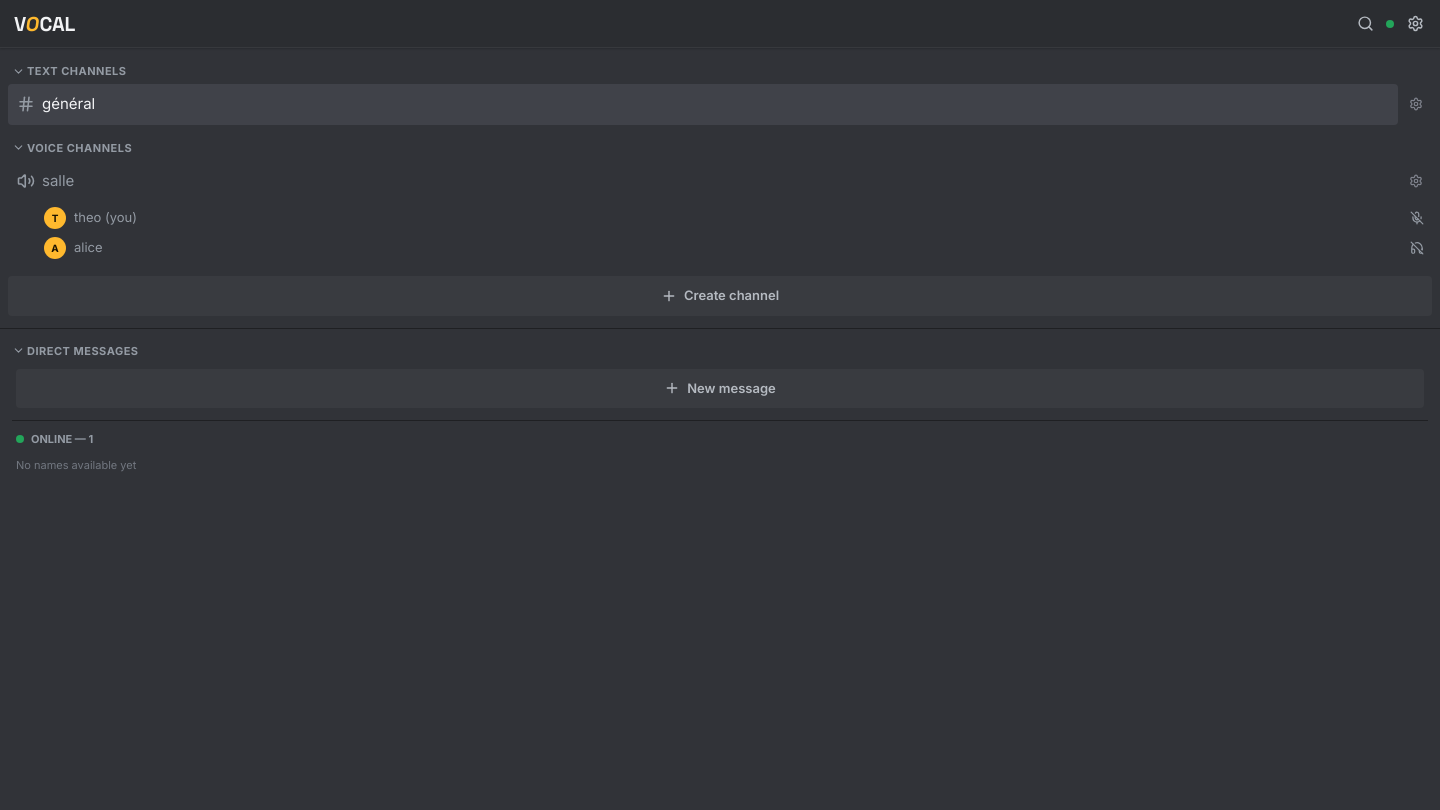
Test: Sidebar › shows a per-channel settings icon for admins, opening that channel's settings
Click the button named "Settings for salle": (1416, 181) [1400, 165, 1432, 197]
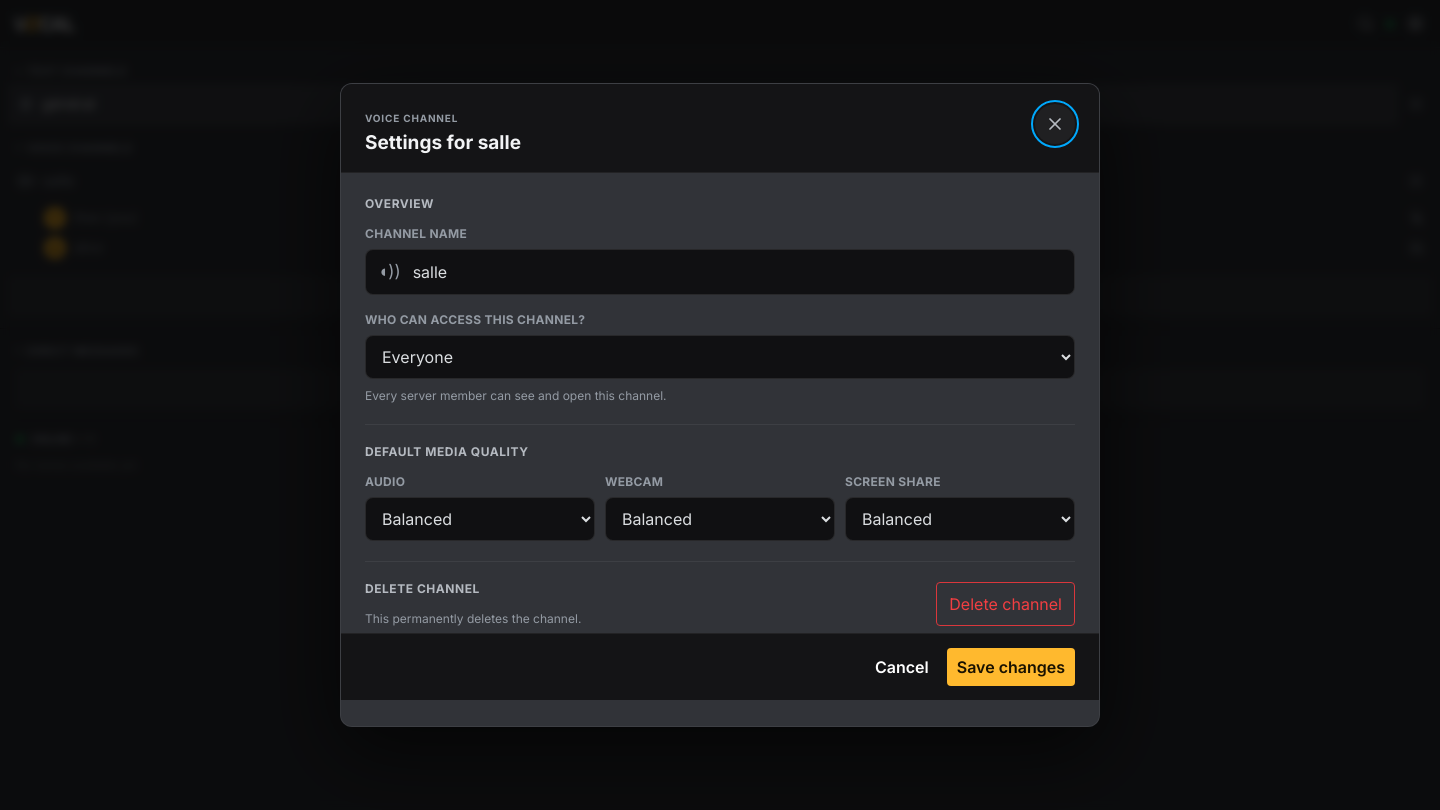
expect the dialog "Settings for salle" is shown: met, box [340, 83, 1100, 727]
